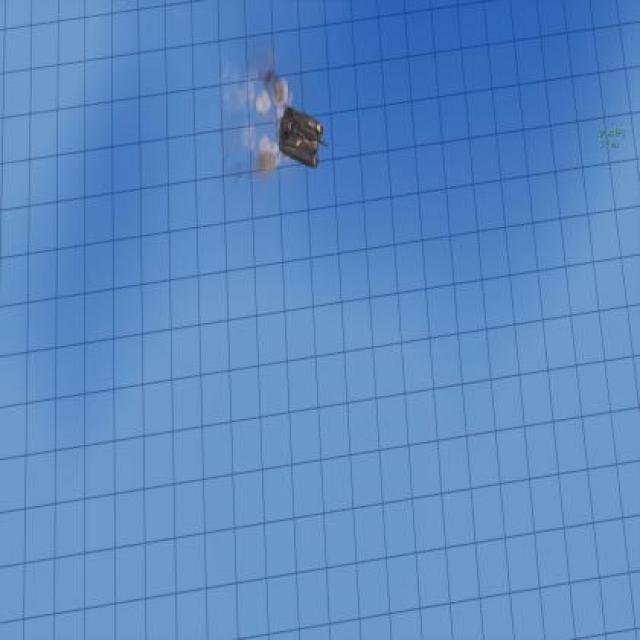tank: (277, 104, 331, 172)
